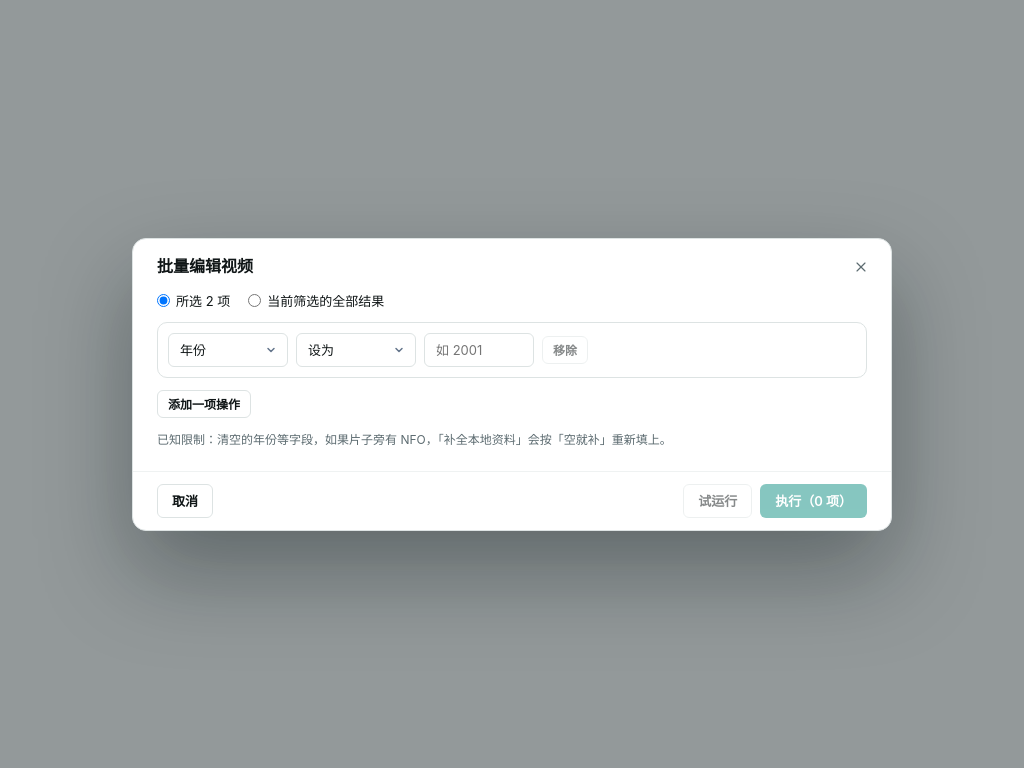
Test: 批量编辑对话框（D-MC-04 / D-MC-05） › 按所选条目预览：每项显示会改变几项，预览前不能执行
Check: the button with test id "batch-edit-apply" is disabled, box top-left (760, 484), bottom-right (867, 518)
Select "年份" in the dropdown named "字段" at (228, 350), box top-left (168, 332), bottom-right (288, 366)
Select "设为" in the dropdown named "操作" at (356, 350), box top-left (296, 332), bottom-right (416, 366)
Type "2001" into the number field with placeholder "如 2001" at (479, 350), box top-left (424, 332), bottom-right (534, 366)
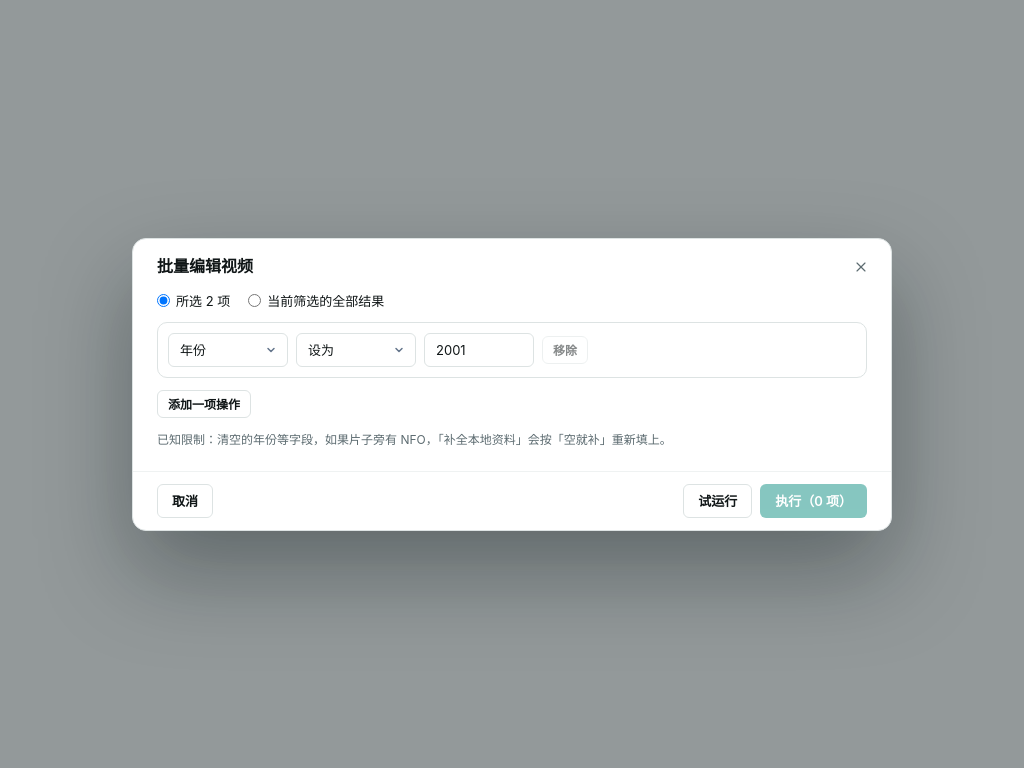
Click the button with test id "batch-edit-preview-btn" at (718, 500), box top-left (683, 484), bottom-right (752, 518)
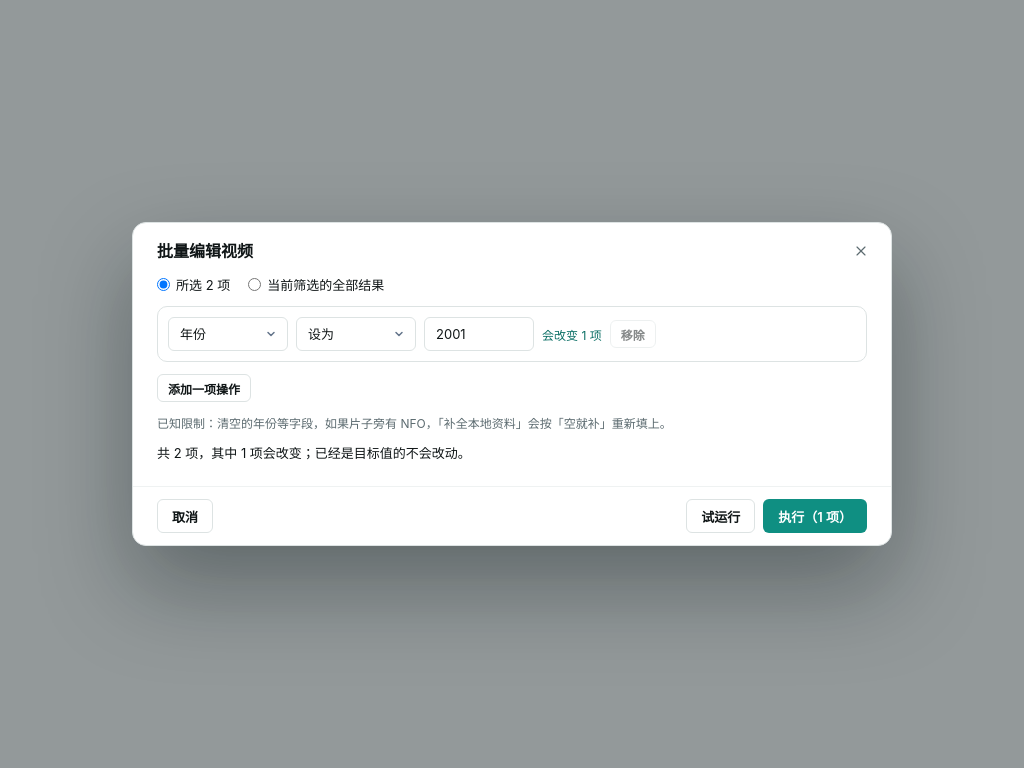
Check: the text with test id "batch-edit-preview" shows "共 2 项，其中 1 项会改变", box top-left (157, 445), bottom-right (471, 461)
Check: the text with test id "batch-edit-op-count" reads "会改变 1 项", box top-left (542, 328), bottom-right (602, 342)
Check: the button with test id "batch-edit-apply" is enabled, box top-left (763, 499), bottom-right (867, 533)
Replace the text in the number field with test id "batch-edit-year" with "2002" at (479, 334), box top-left (424, 317), bottom-right (534, 351)
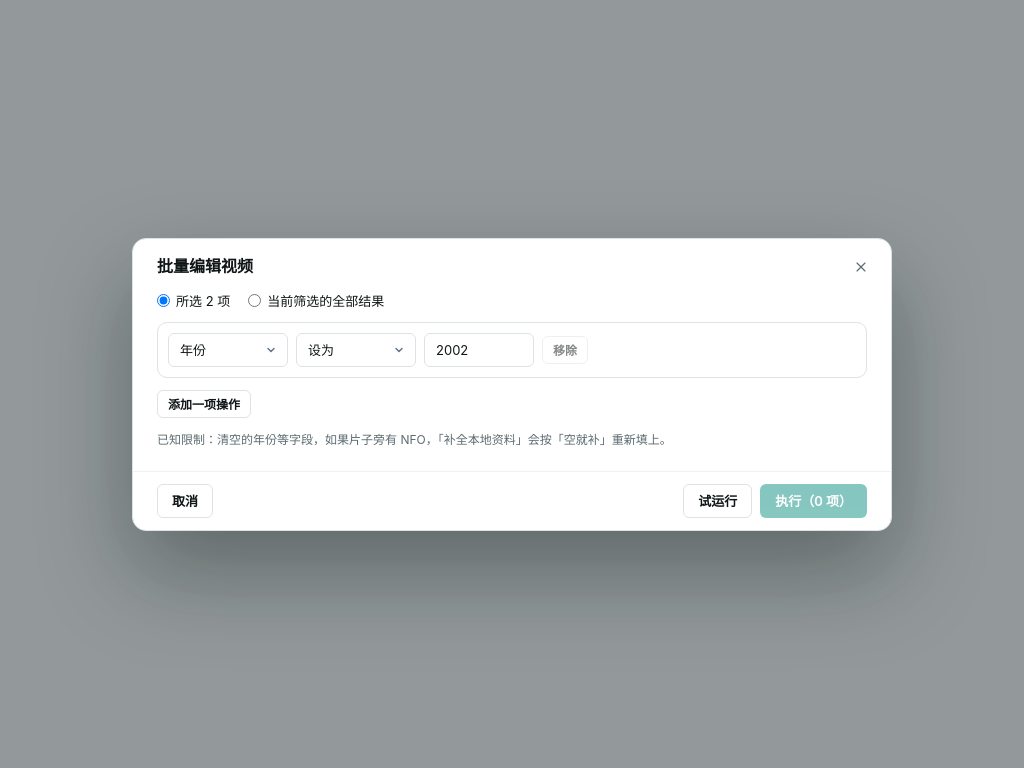
Check: the button with test id "batch-edit-apply" is disabled, box top-left (760, 484), bottom-right (867, 518)
